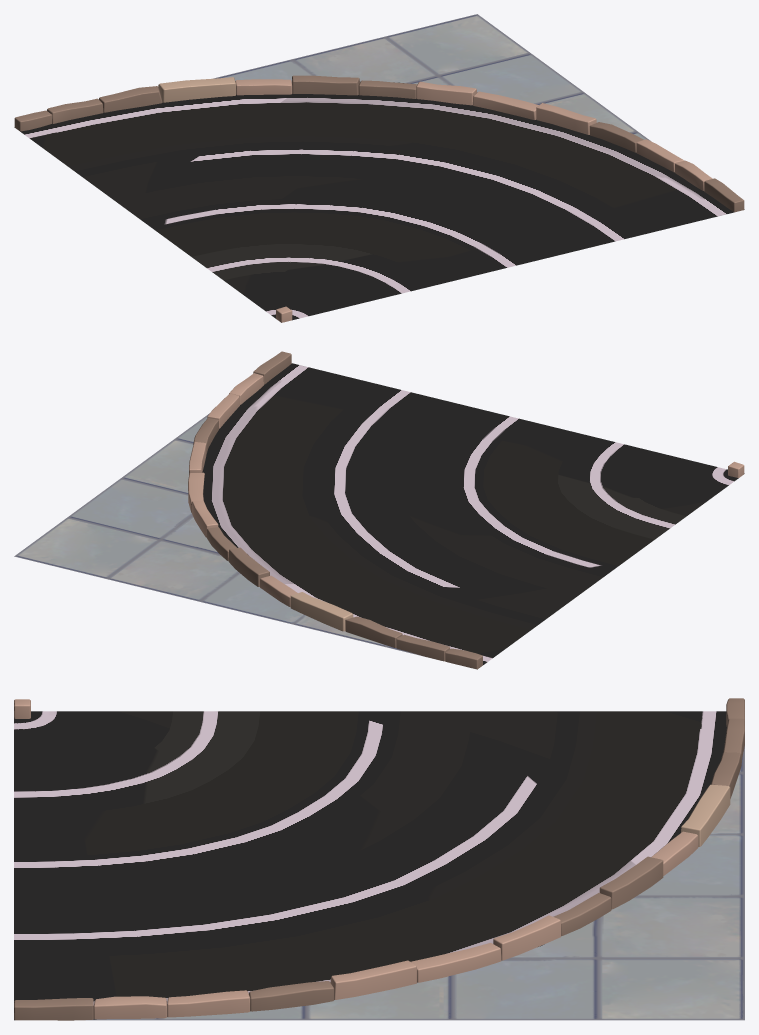
File: CityRoad_shortTurnWide.fbx
The picture shows the model from 3 angles, top to bottom: view 1: azimuth 30°, elevation 25°; view 2: azimuth 150°, elevation 25°; view 3: azimuth 270°, elevation 25°; orthographic projection. The views are drawn at different scales.
Parts seen in each view (by area): view 1: CityRoad_shortTurnWide_mesh; view 2: CityRoad_shortTurnWide_mesh; view 3: CityRoad_shortTurnWide_mesh.
Boxes of the visible parts, bbox=[...] form: CityRoad_shortTurnWide_mesh: bbox=[14, 14, 744, 322]; CityRoad_shortTurnWide_mesh: bbox=[14, 351, 744, 669]; CityRoad_shortTurnWide_mesh: bbox=[14, 698, 744, 1020].
Size of the model in its own units: 1001 by 28.55 by 1000.
